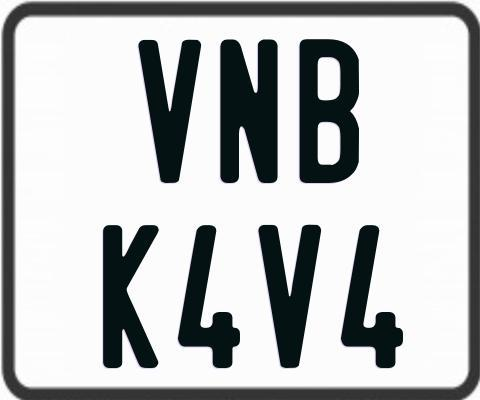4: (176, 225, 244, 368), (338, 222, 401, 365)
B: (297, 38, 356, 185)
K: (100, 225, 158, 371)
N: (219, 37, 279, 180)
V: (258, 225, 323, 374), (137, 38, 201, 185)
